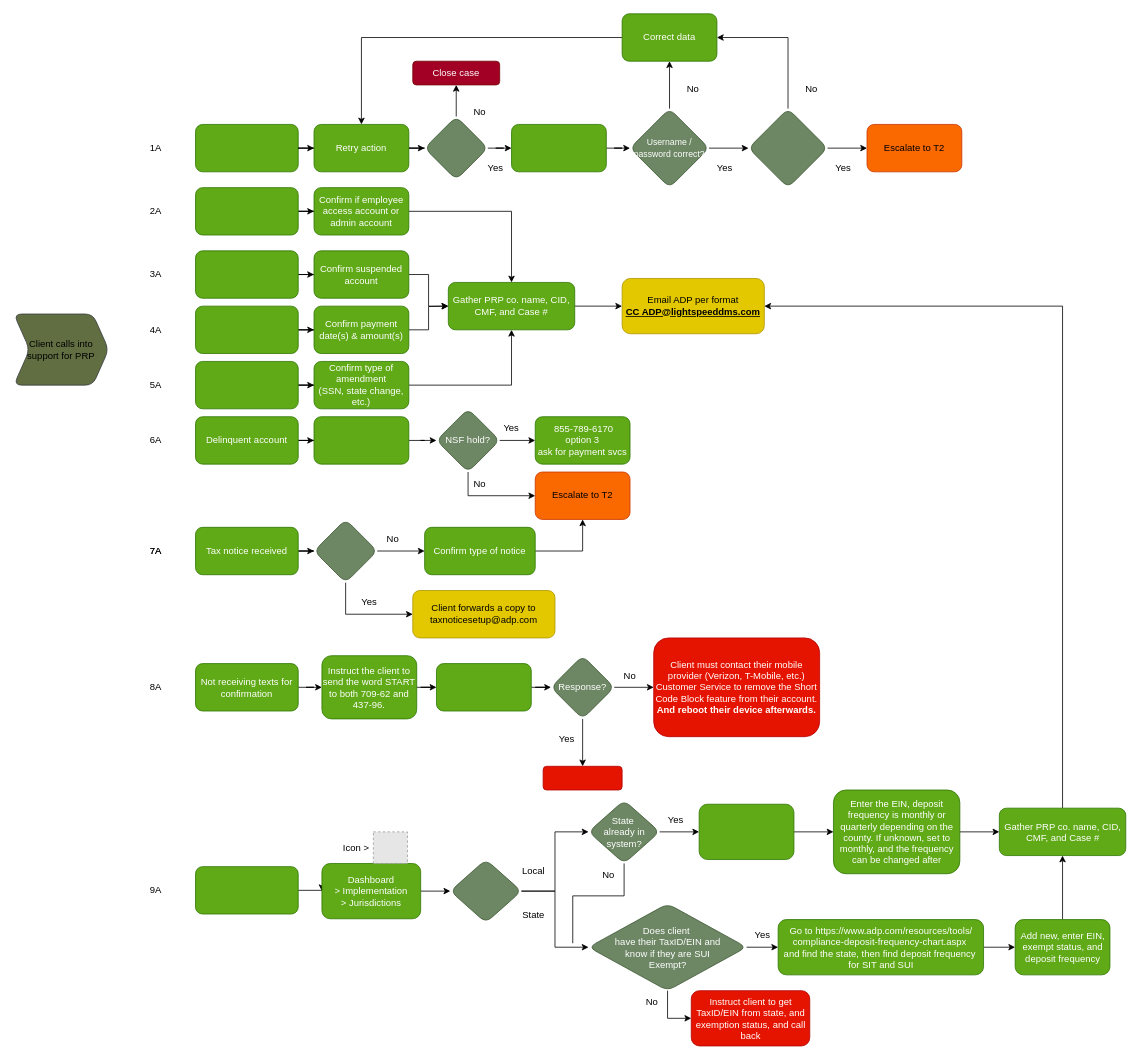
This 1140x1060 diagram has some shape labels left out. Grey dashed boxes stand in for pictures. Here are the shapes that lost their labels. From the top down, the centre of each, then its label:
[246,148]: "Unable to login", LS error
[456,148]: Error?
[558,148]: System > Preferences > Location > Payroll
[788,148]: Company code correct?
[246,211]: Email / Phone number in use when it doesn't exist anywhere
[246,274]: Account suspended
[246,329]: Information about payments made to ADP
[246,385]: Amendments to W-2
[361,440]: Dashboard > Implementation > ADP Code Details
[345,551]: From the government?
[483,687]: Retry confirmation
[582,778]: Case closed
[746,831]: Copy the EIN for the state, then change the dropdown to "Local" and add new
[246,890]: Need to add new state/county tax
[485,891]: Local or State Tax
